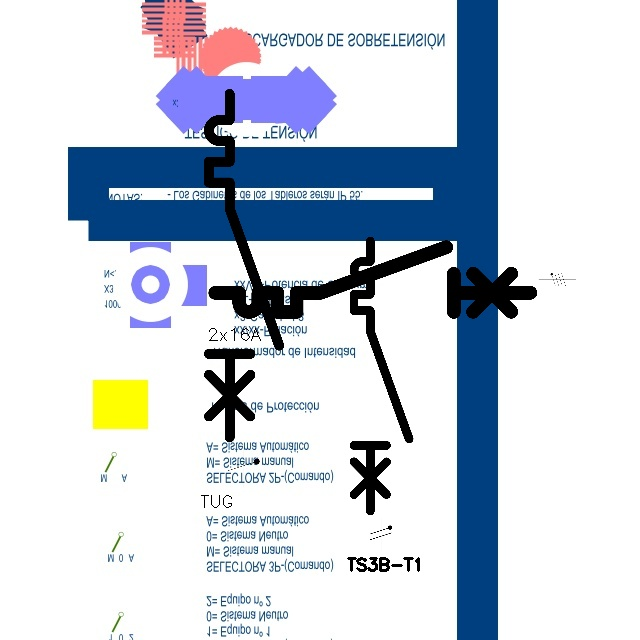interruptor_termomagnetico: (200, 85, 288, 446), (207, 239, 539, 320), (347, 234, 416, 518)
